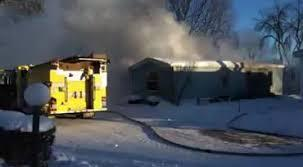smoke: (0, 0, 303, 117)
